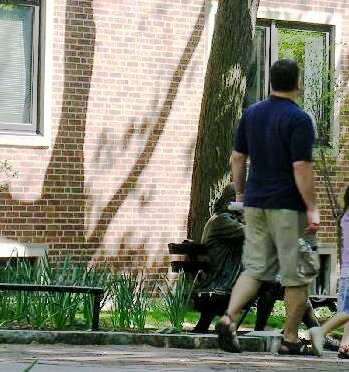person: (216, 58, 337, 353)
